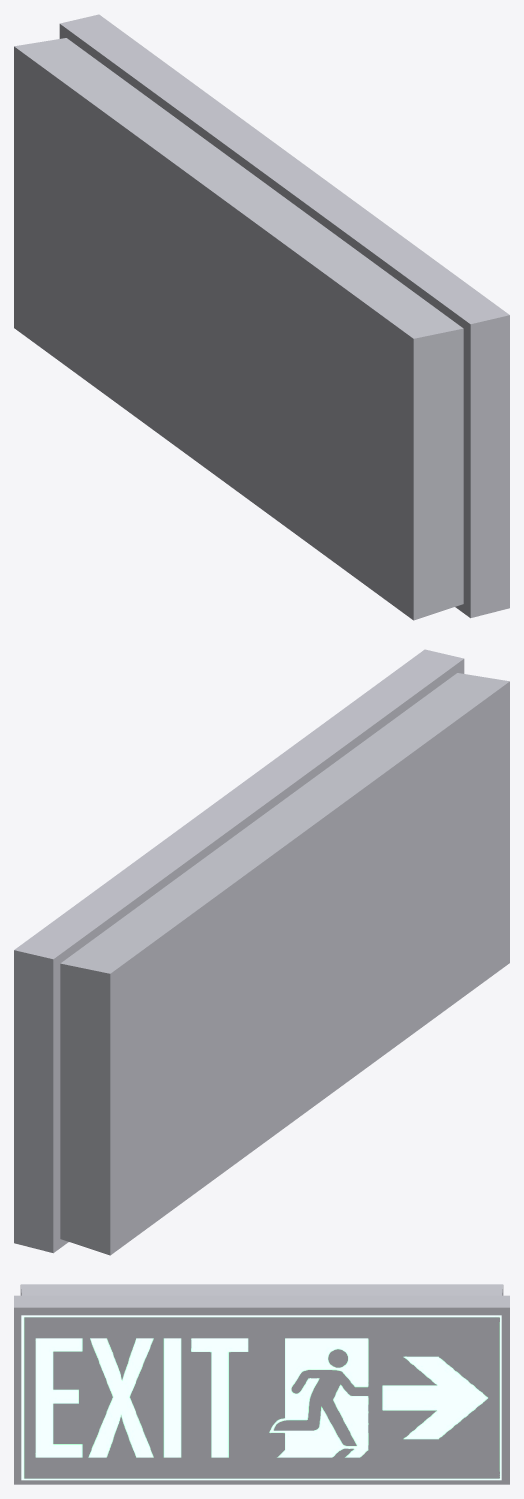
Rendered from EXIT SIGN.fbx.
The picture shows the model from 3 angles, top to bottom: view 1: azimuth 30°, elevation 25°; view 2: azimuth 150°, elevation 25°; view 3: azimuth 270°, elevation 25°; orthographic projection. The views are drawn at different scales.
Visible parts, largest first — view 1: sign; view 2: sign; view 3: sign.
Boxes of the visible parts, bbox=[...] form: sign: bbox=[14, 14, 509, 620]; sign: bbox=[14, 649, 509, 1255]; sign: bbox=[14, 1284, 509, 1484].
Size of the model in its own units: 40.12 by 121 by 308.
